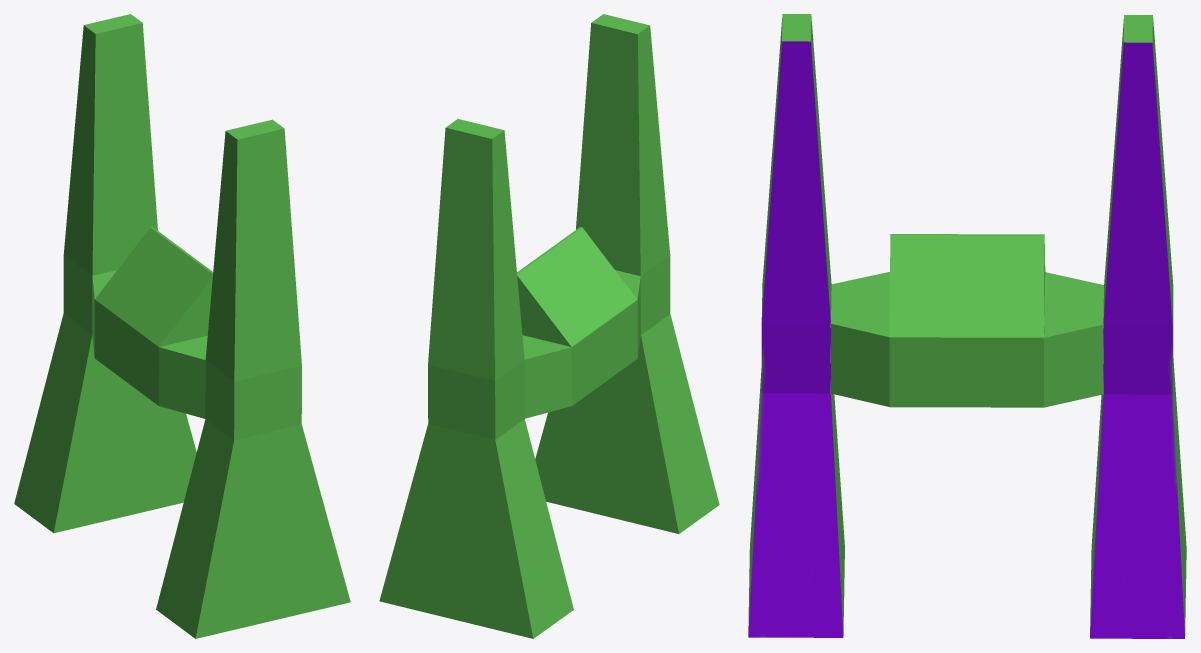
The model's file is GreenShip32.fbx.
3 views of the same model, side by side, from view 1: azimuth 30°, elevation 25°; view 2: azimuth 150°, elevation 25°; view 3: azimuth 270°, elevation 25° (orthographic). The views are drawn at different scales.
Parts seen in each view (by area): view 1: Cube; view 2: Cube; view 3: Cube.
Part boxes in pixels (x1,y1,x2,y2): Cube: (14, 14, 350, 638); Cube: (379, 14, 719, 638); Cube: (748, 14, 1186, 638).
Bounding box in the file's own units: 279 × 809 × 568.
Materials: 1 (1 with a texture image).
